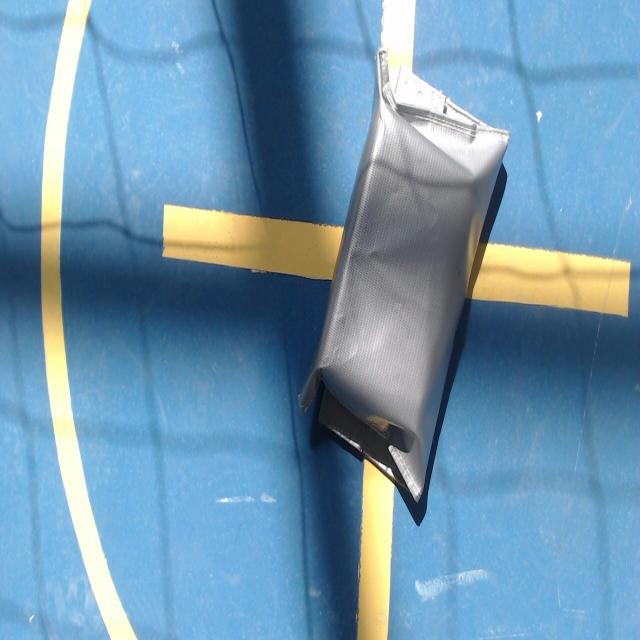lipo: (300, 50, 508, 501)
